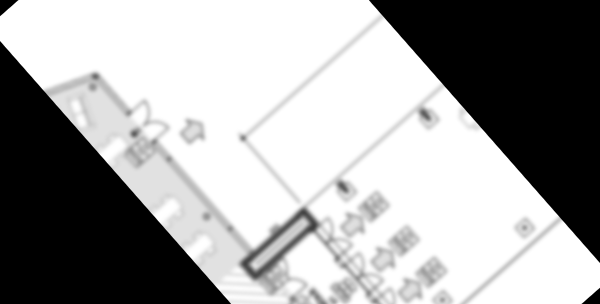double door: (124, 95, 175, 147), (342, 250, 387, 297), (310, 214, 355, 261), (372, 285, 417, 304)
